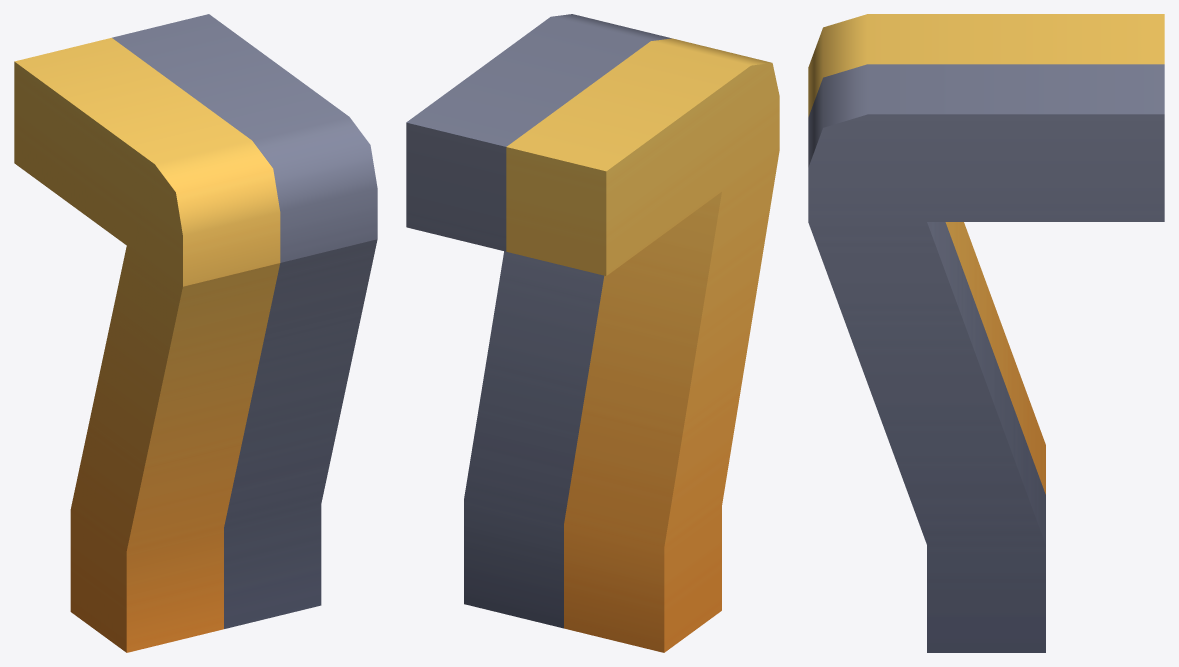
Rendered from number-double-7.fbx.
The picture shows the model from 3 angles, left to right: view 1: azimuth 30°, elevation 25°; view 2: azimuth 150°, elevation 25°; view 3: azimuth 270°, elevation 25°; orthographic projection. The views are drawn at different scales.
Parts seen in each view (by area): view 1: number-double-7; view 2: number-double-7; view 3: number-double-7.
Part boxes in pixels (<box>): number-double-7: <box>14,14,377,652</box>; number-double-7: <box>406,14,779,652</box>; number-double-7: <box>808,14,1164,652</box>.
Bounding box in the file's own units: 20 × 50 × 30.
